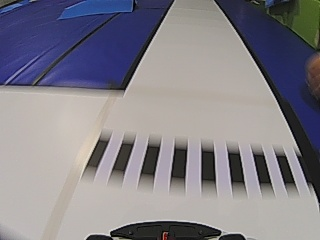CrossWalk: (88, 135, 300, 187)
